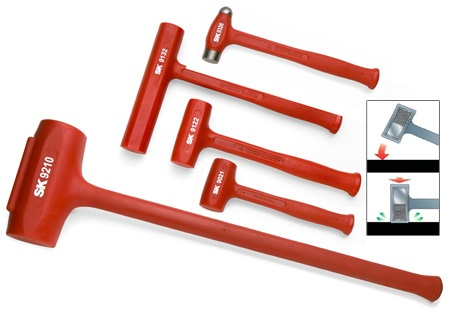hammer: (12, 116, 444, 303), (171, 94, 364, 195), (200, 4, 386, 90), (197, 160, 357, 242)
